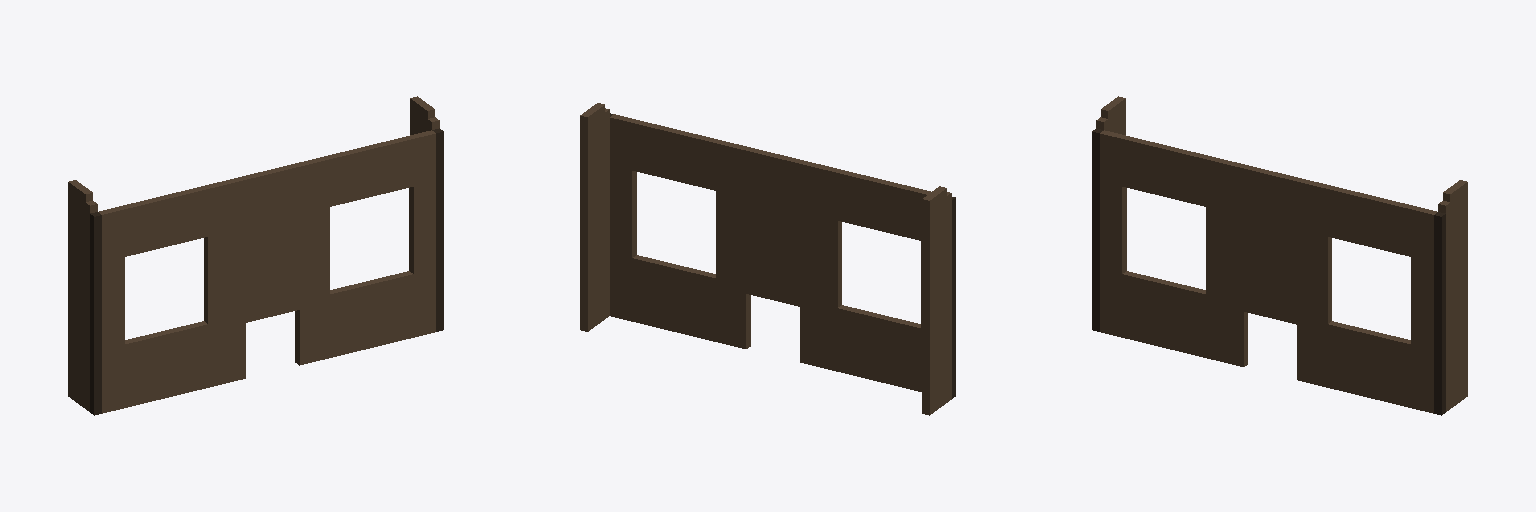
3 views of the same model, side by side, from view 1: azimuth 30°, elevation 25°; view 2: azimuth 150°, elevation 25°; view 3: azimuth 330°, elevation 25° (orthographic).
Visible parts, largest first — view 1: HouseWalls; view 2: HouseWalls; view 3: HouseWalls.
Part boxes in pixels (bbox=[...]): HouseWalls: bbox=[68, 96, 443, 415]; HouseWalls: bbox=[580, 103, 955, 415]; HouseWalls: bbox=[1092, 96, 1467, 415].
Size of the model in its own units: 4.6 by 2.7 by 0.6.
Materials: 1 (1 with a texture image).